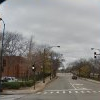crosswalk: (37, 90, 100, 93)
